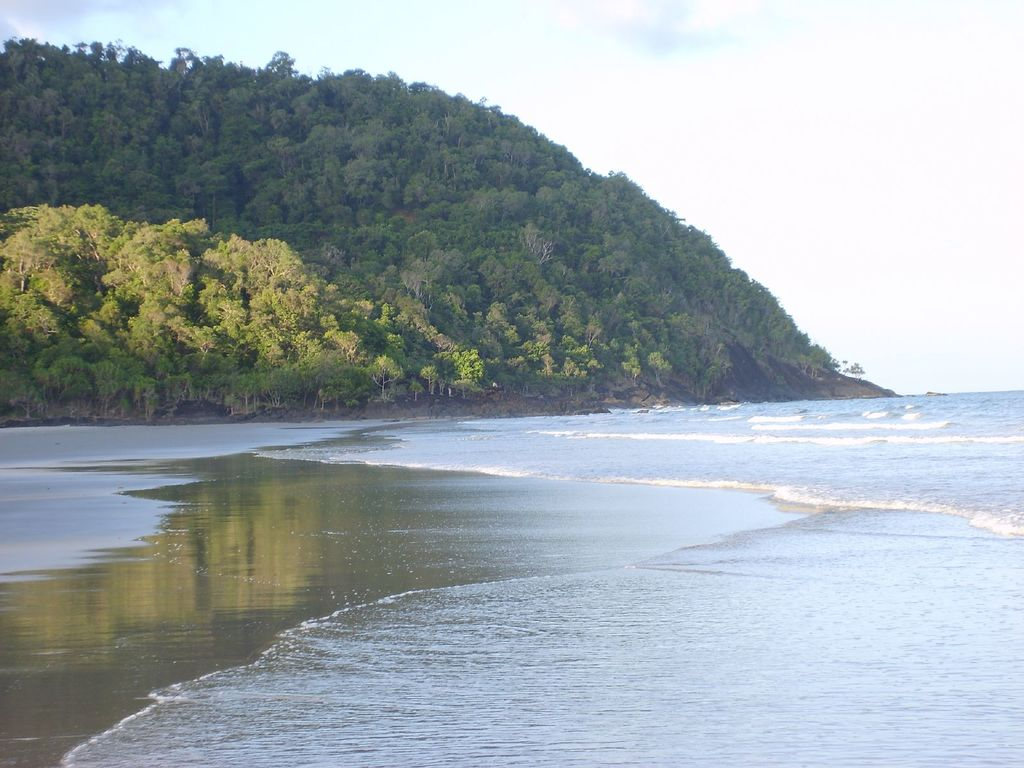Tree: (0, 51, 865, 417)
